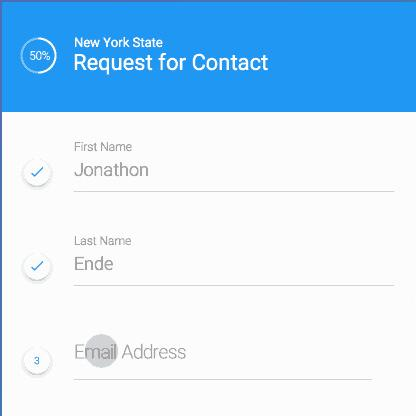field: (68, 138, 395, 195), (71, 234, 397, 288), (71, 336, 373, 384)
